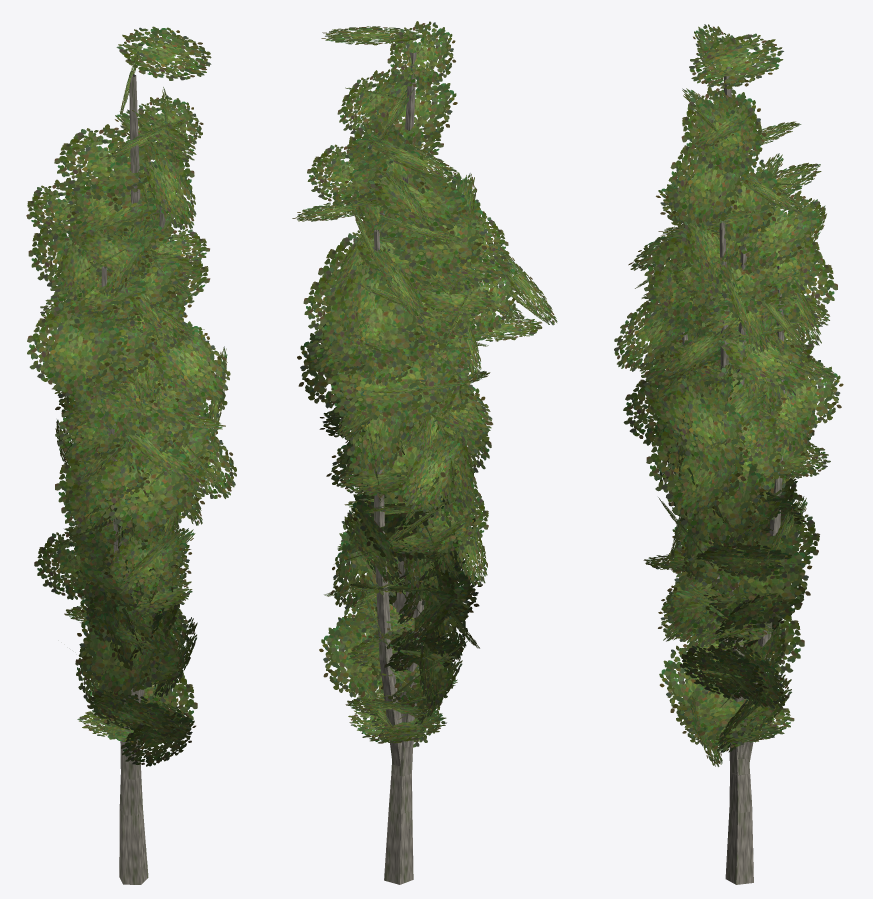
Rendered from Tree_Poplar_1_LOD1.gltf.
3 renders of one model, left to right at view 1: azimuth 30°, elevation 25°; view 2: azimuth 150°, elevation 25°; view 3: azimuth 270°, elevation 25°, orthographic.
Parts seen in each view (by area): view 1: Tree_Poplar_1_LOD1; view 2: Tree_Poplar_1_LOD1; view 3: Tree_Poplar_1_LOD1.
Part boxes in pixels (x1,y1,x2,y2): Tree_Poplar_1_LOD1: (26, 26, 236, 884); Tree_Poplar_1_LOD1: (292, 21, 557, 884); Tree_Poplar_1_LOD1: (614, 24, 843, 884).
Size of the model in its own units: 7.41 by 24.57 by 6.9.
Materials: 2 (2 with a texture image).
